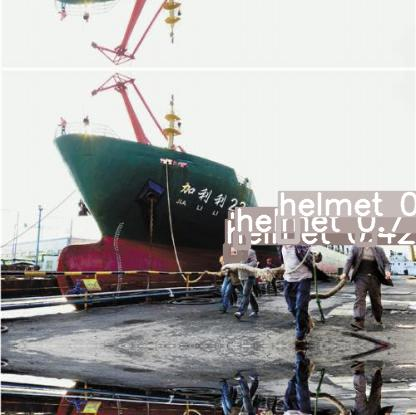helmet: (278, 216, 297, 241), (228, 236, 245, 257), (357, 225, 374, 244), (225, 244, 239, 260), (235, 232, 248, 247)
